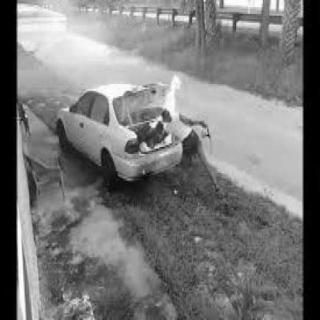Fire: (119, 80, 202, 156)
